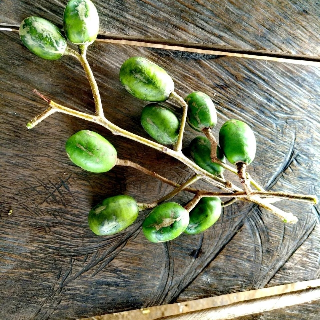coc: (66, 128, 118, 174), (119, 58, 174, 101), (18, 17, 67, 60), (88, 195, 137, 237), (143, 202, 189, 243), (220, 118, 256, 165), (142, 103, 180, 144)
